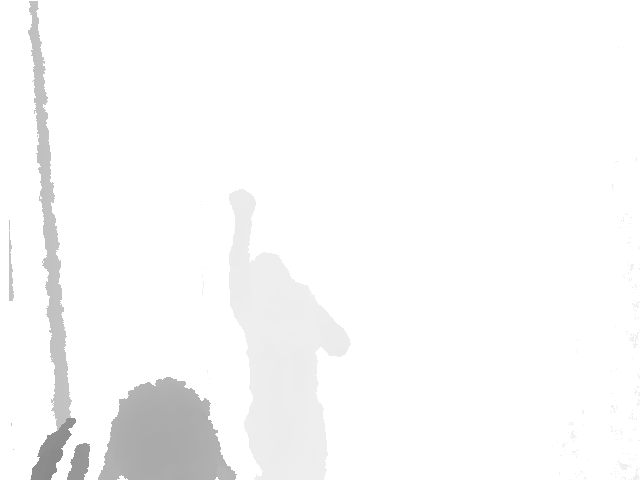hand: (228, 184, 258, 226)
head: (102, 377, 220, 480), (247, 253, 288, 310)
person: (225, 185, 352, 480), (32, 374, 234, 480)
